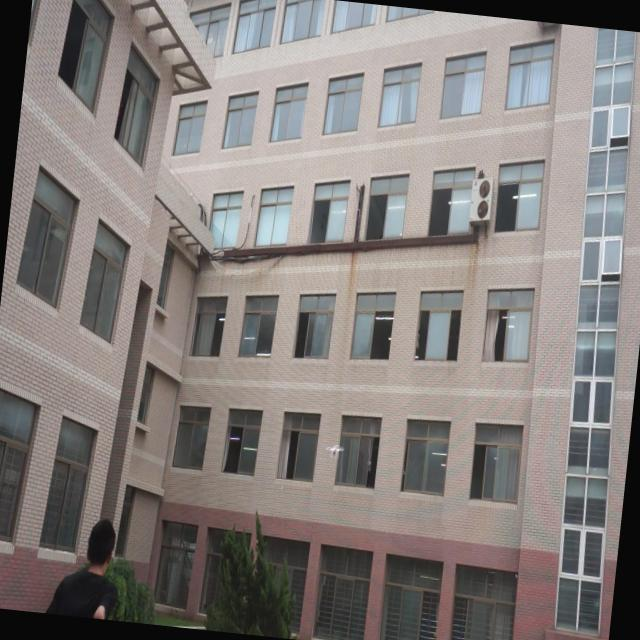drone: (324, 440, 346, 462)
